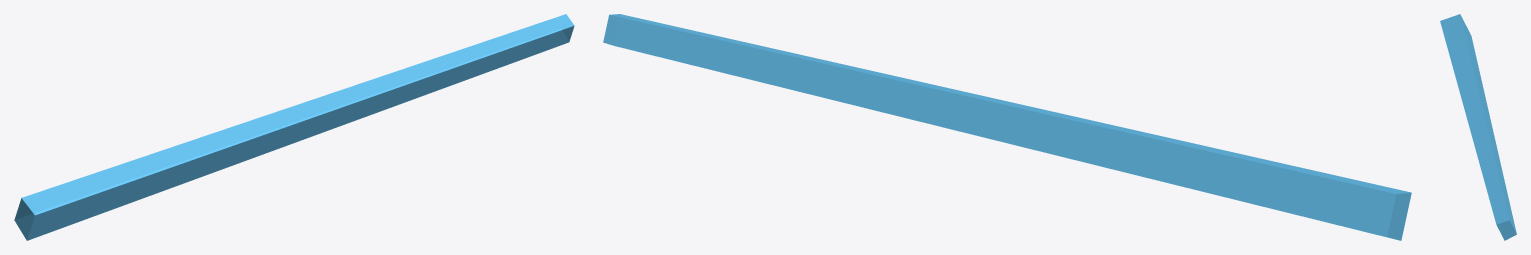
File: Event_421127236_HErechit_6.fbx
The picture shows the model from 3 angles, left to right: view 1: azimuth 30°, elevation 25°; view 2: azimuth 150°, elevation 25°; view 3: azimuth 270°, elevation 25°; orthographic projection. The views are drawn at different scales.
Visible parts, largest first — view 1: Model; view 2: Model; view 3: Model.
Part boxes in pixels (<box>): Model: <box>14,14,574,240</box>; Model: <box>603,14,1411,240</box>; Model: <box>1440,14,1516,240</box>.
Size of the model in its own units: 5.37 by 0.5381 by 0.7846.
